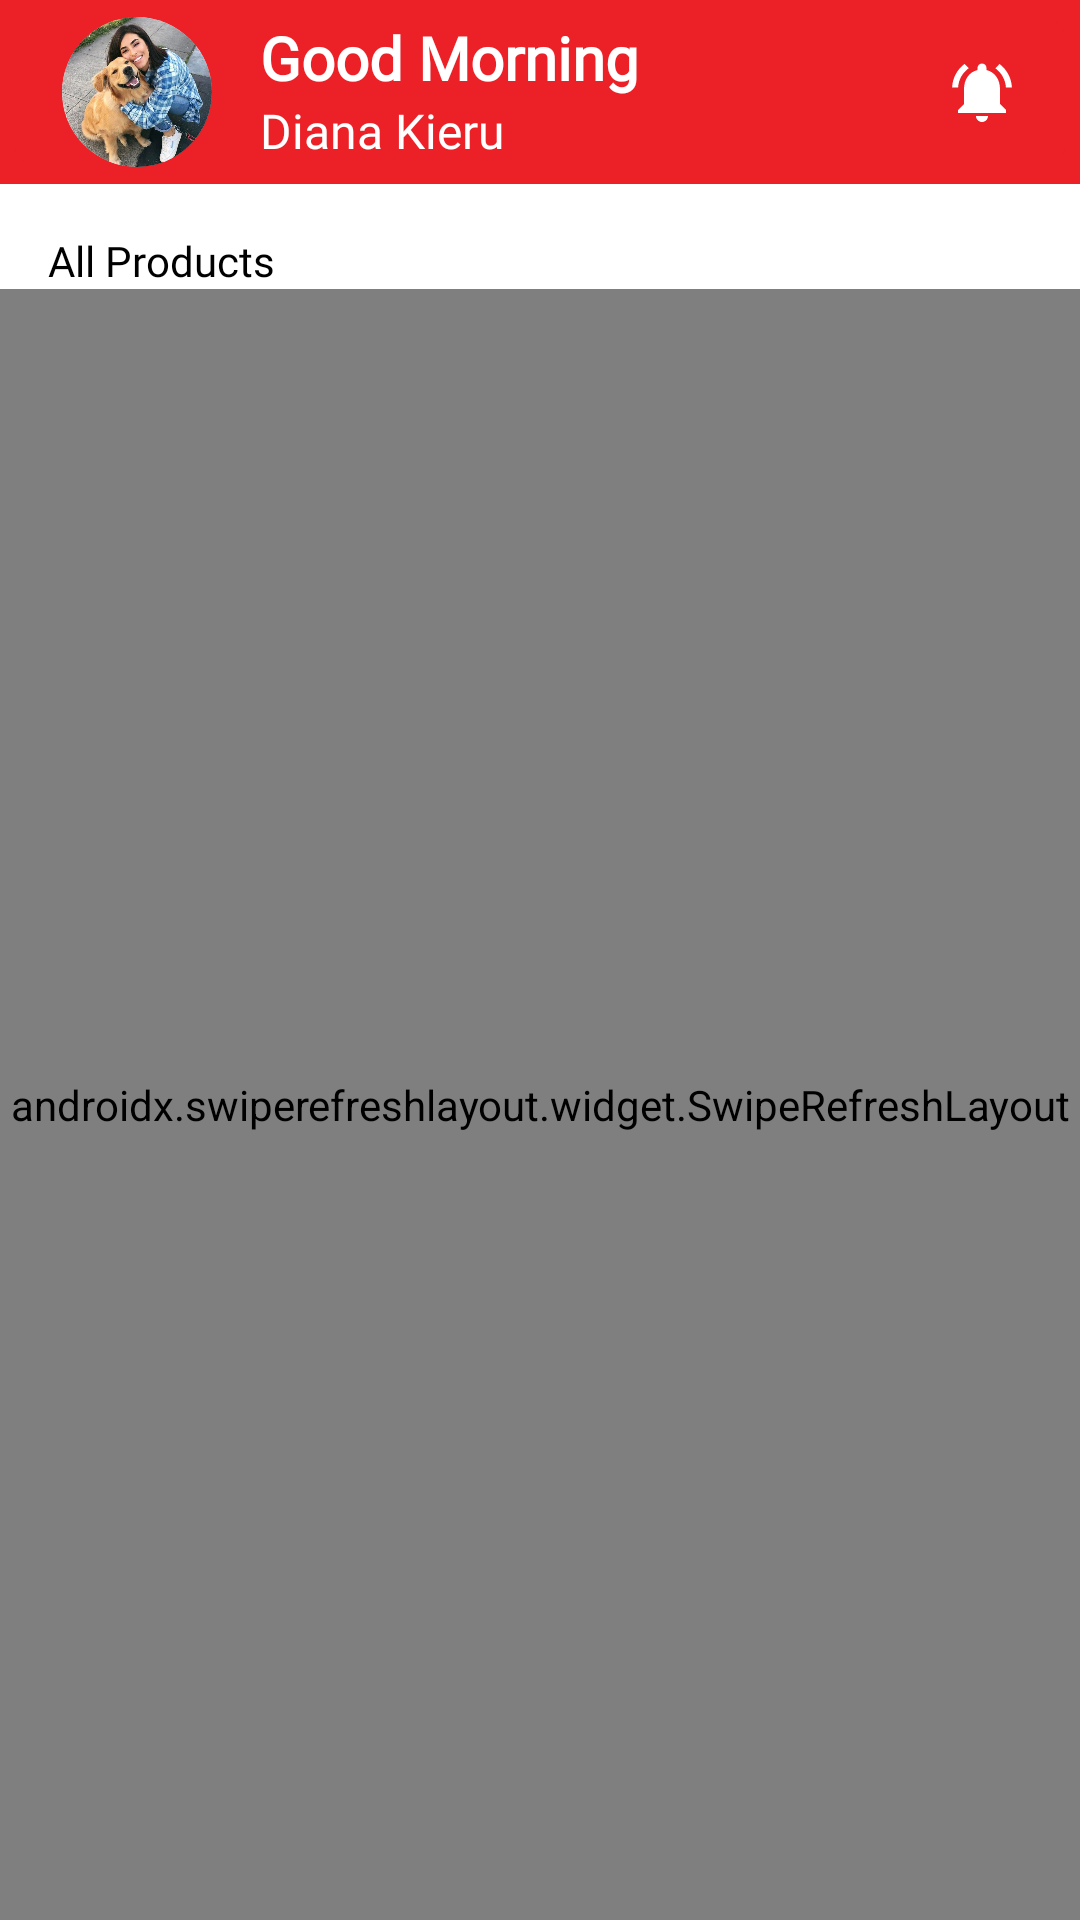

Point at icon controls on the screen. Image size 1080px x 1920px, points as [x,y].
notification: [982,92]
profileimage: [137,92]
